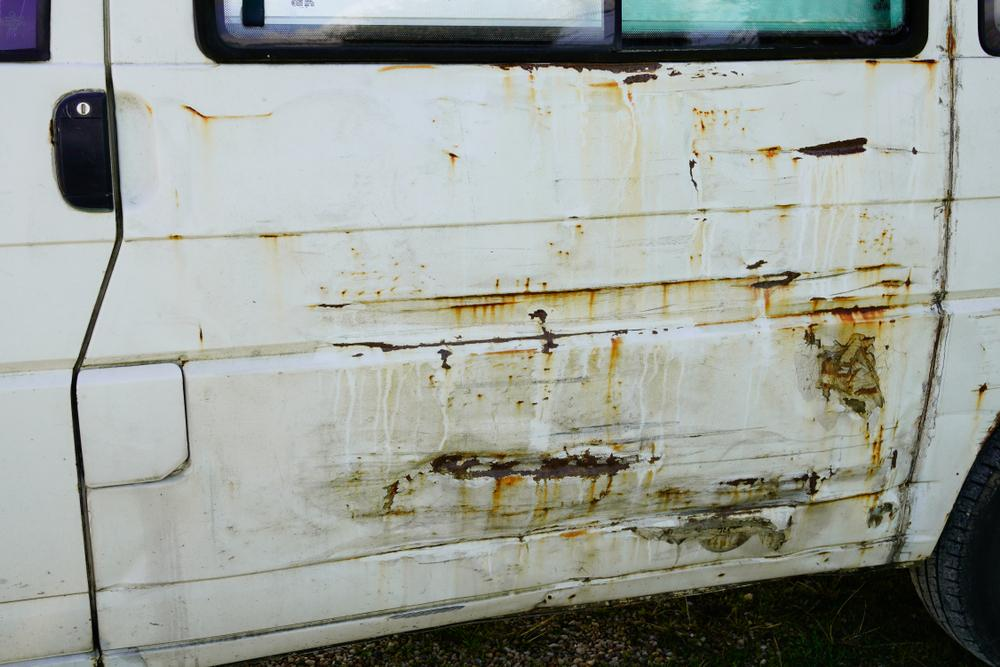scratch: (286, 65, 924, 583)
